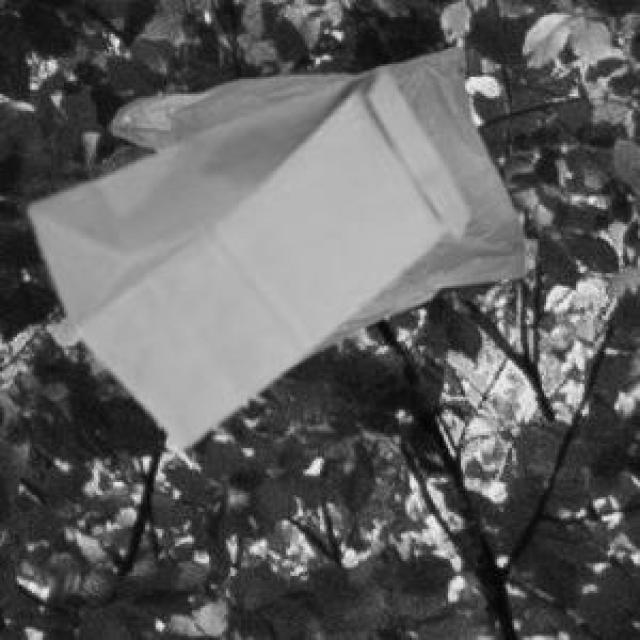paper: (26, 66, 463, 442)
